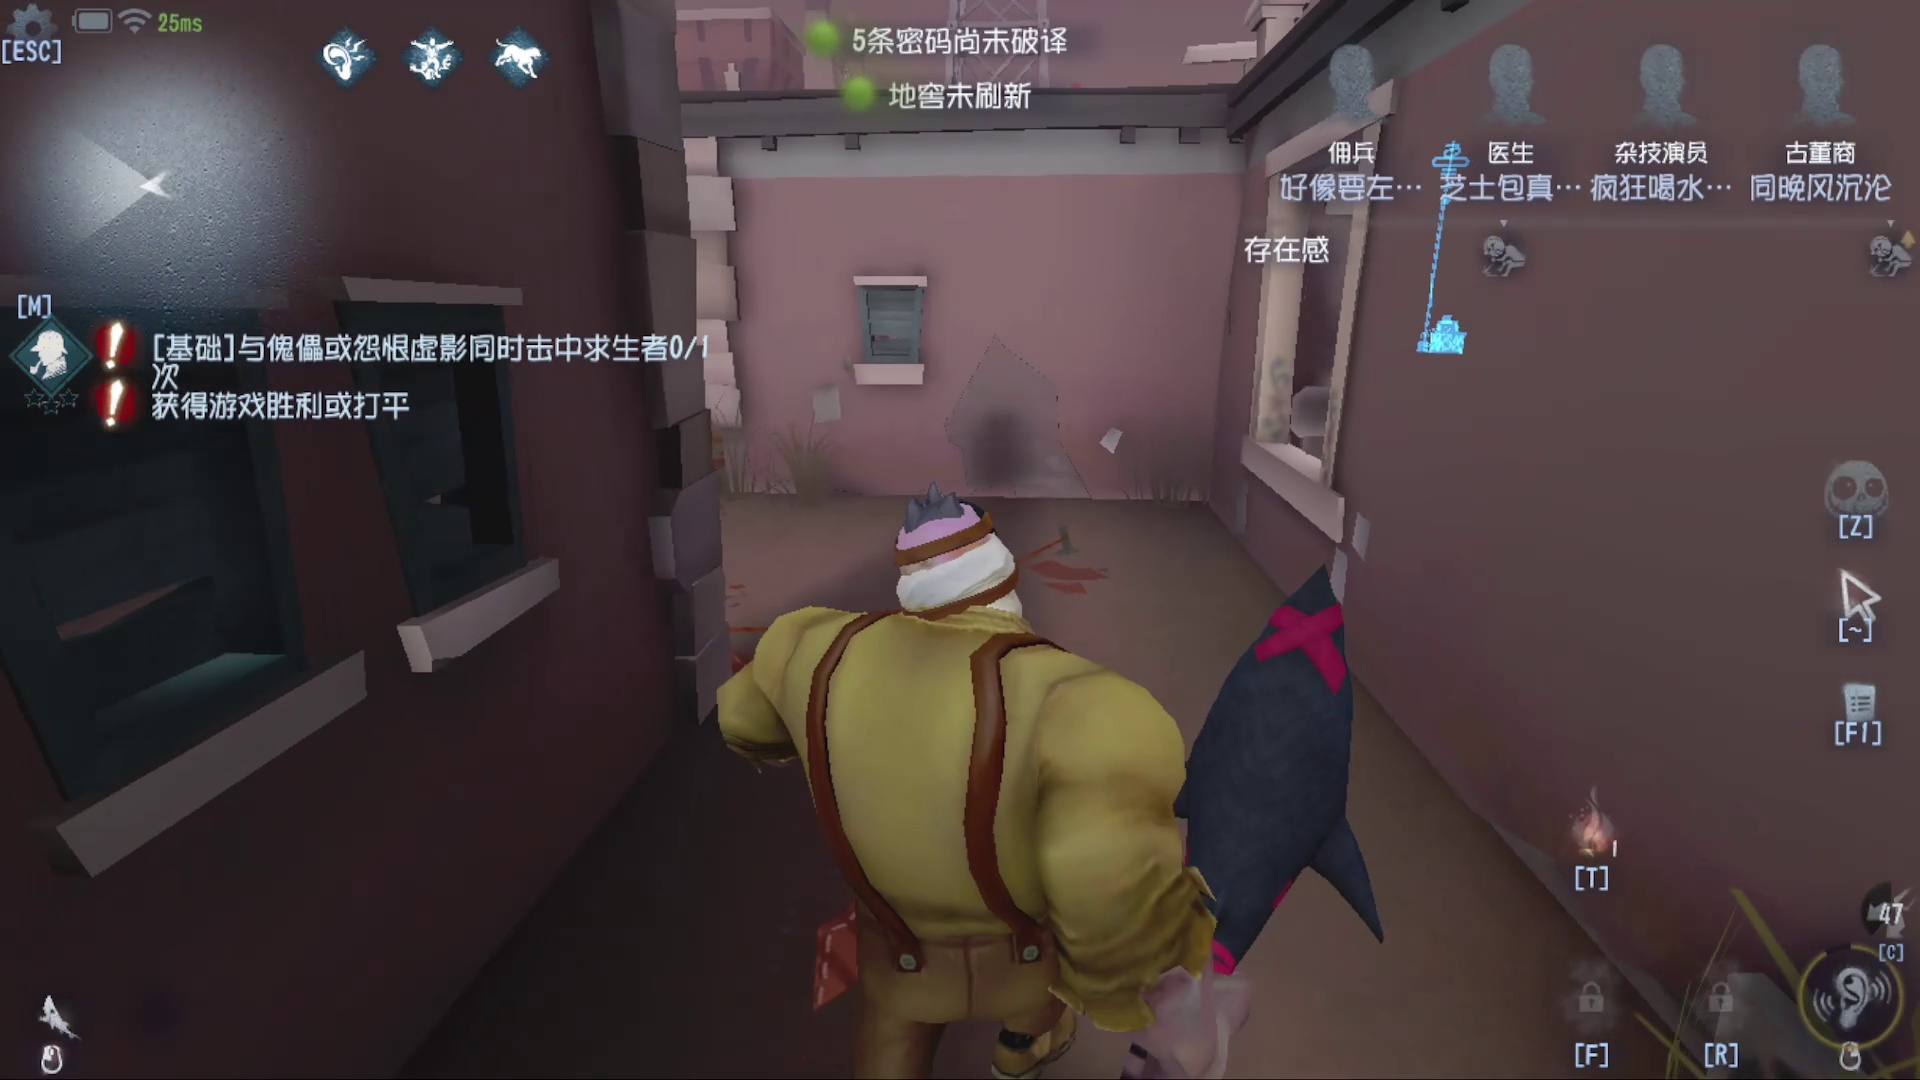密码机: (1387, 128, 1501, 392)
